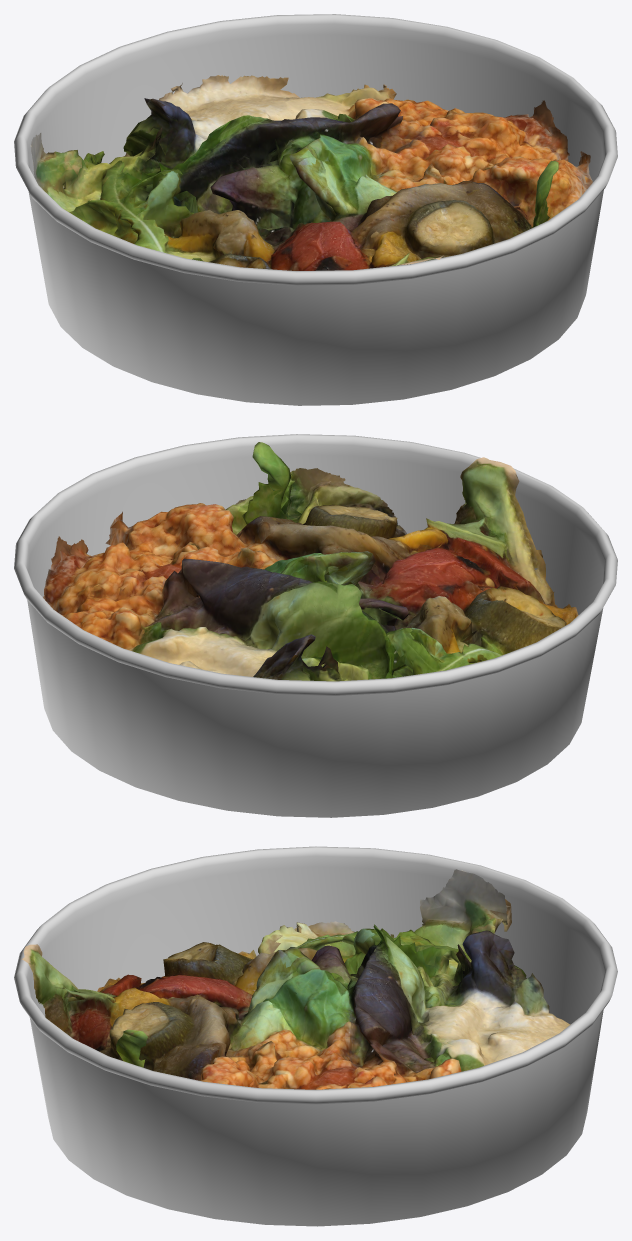
Rendered from ensalda.fbx.
3 views of the same model, one above another, from view 1: azimuth 30°, elevation 25°; view 2: azimuth 150°, elevation 25°; view 3: azimuth 270°, elevation 25° (orthographic).
Visible parts, largest first — view 1: Circle, Lowpoly; view 2: Circle, Lowpoly; view 3: Circle, Lowpoly.
Part boxes in pixels (x1,y1,x2,y2): Circle: [14, 14, 617, 405]; Lowpoly: [30, 75, 592, 270]; Circle: [14, 434, 617, 817]; Lowpoly: [43, 442, 578, 681]; Circle: [14, 846, 617, 1226]; Lowpoly: [21, 869, 570, 1089].
Size of the model in its own units: 128 by 128 by 37.7.
